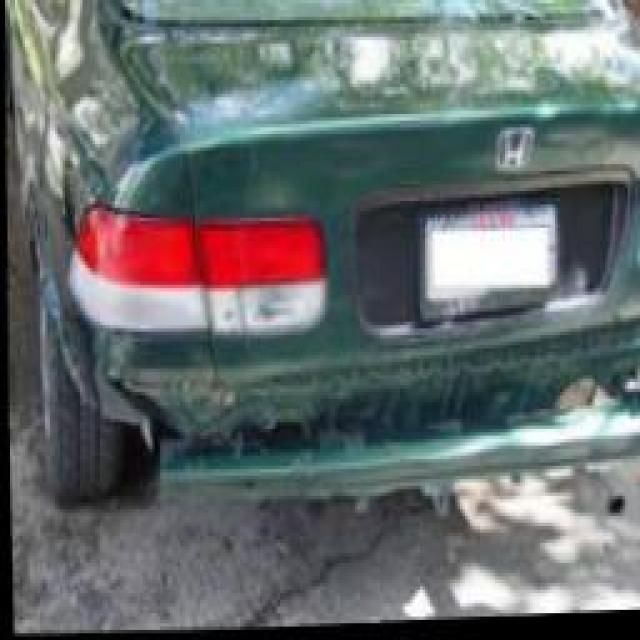Bumper: (68, 337, 640, 518)
